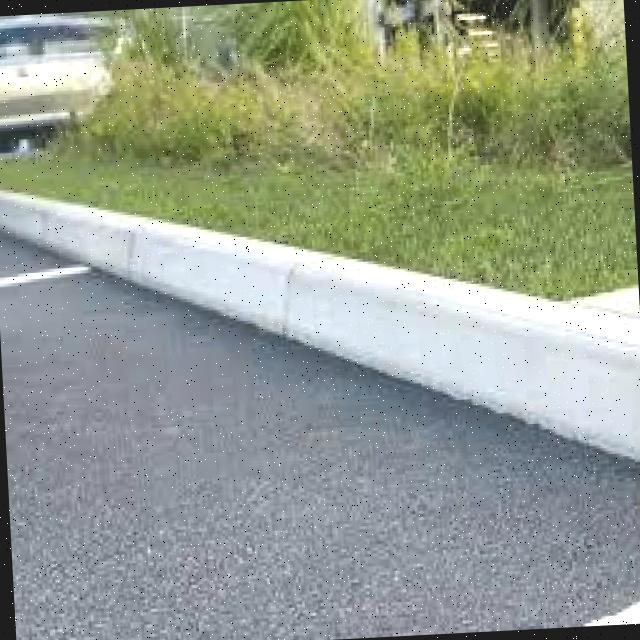curb: (1, 192, 640, 462)
